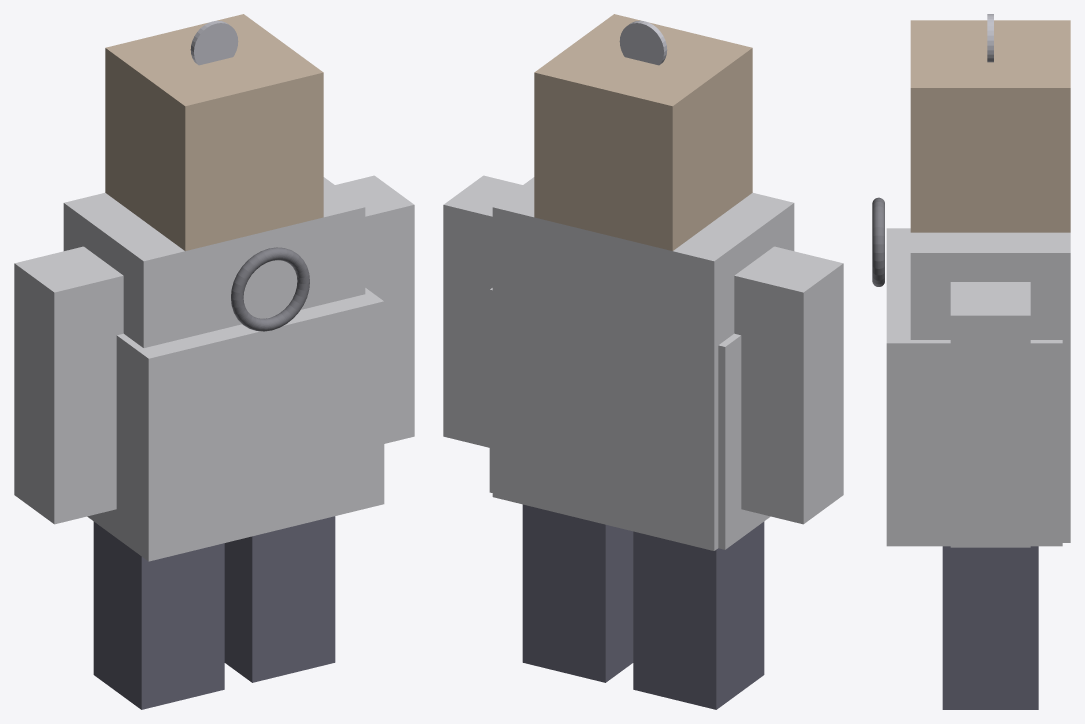
The model's file is character_doctor.glb.
3 renders of one model, left to right at view 1: azimuth 30°, elevation 25°; view 2: azimuth 150°, elevation 25°; view 3: azimuth 270°, elevation 25°, orthographic.
Parts seen in each view (by area): view 1: geometry_0; view 2: geometry_0; view 3: geometry_0.
Part boxes in pixels (x1,y1,x2,y2): geometry_0: [14, 14, 414, 709]; geometry_0: [443, 14, 843, 709]; geometry_0: [872, 14, 1070, 709].
Bounding box in the file's own units: 1.3 × 2.23 × 0.62.
